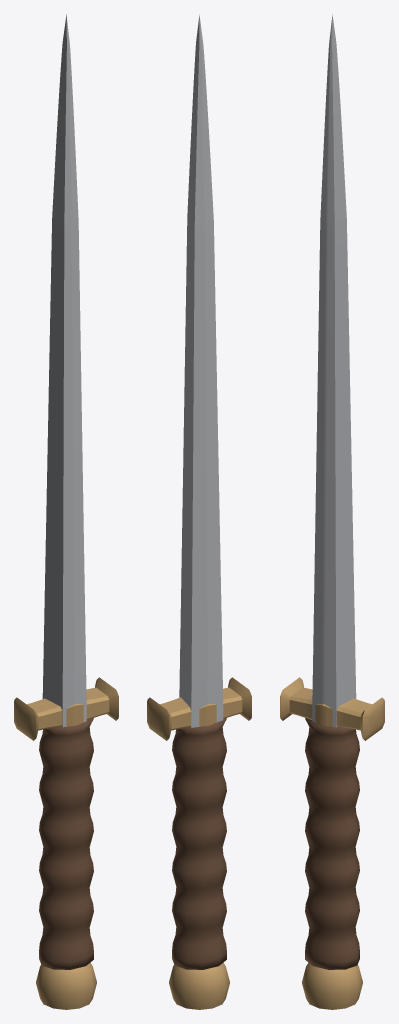
File: siangham.glb
3 renders of one model, left to right at view 1: azimuth 30°, elevation 25°; view 2: azimuth 210°, elevation 25°; view 3: azimuth 330°, elevation 25°, orthographic.
Parts seen in each view (by area): view 1: siangham; view 2: siangham; view 3: siangham.
Boxes of the visible parts, box(x1,y1,x2,y2) form: siangham: box(14, 14, 118, 1009); siangham: box(147, 14, 251, 1009); siangham: box(280, 14, 384, 1009).
Size of the model in its own units: 0.1 by 1.07 by 0.06.
